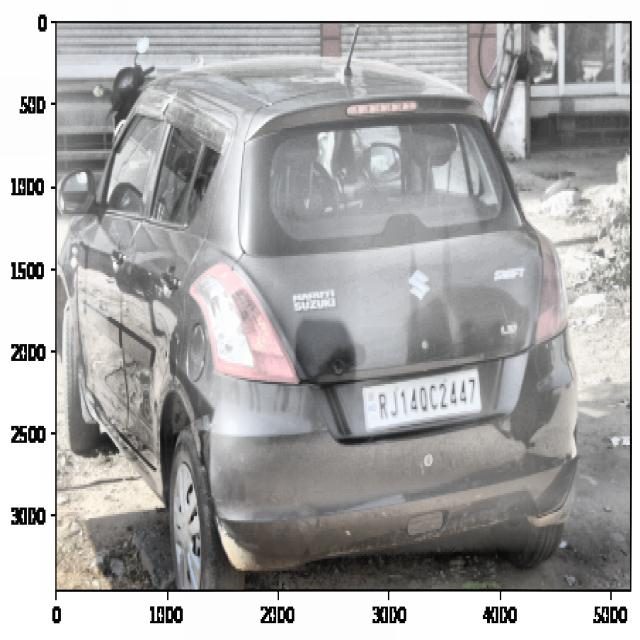license_plate: (373, 371, 479, 422)
